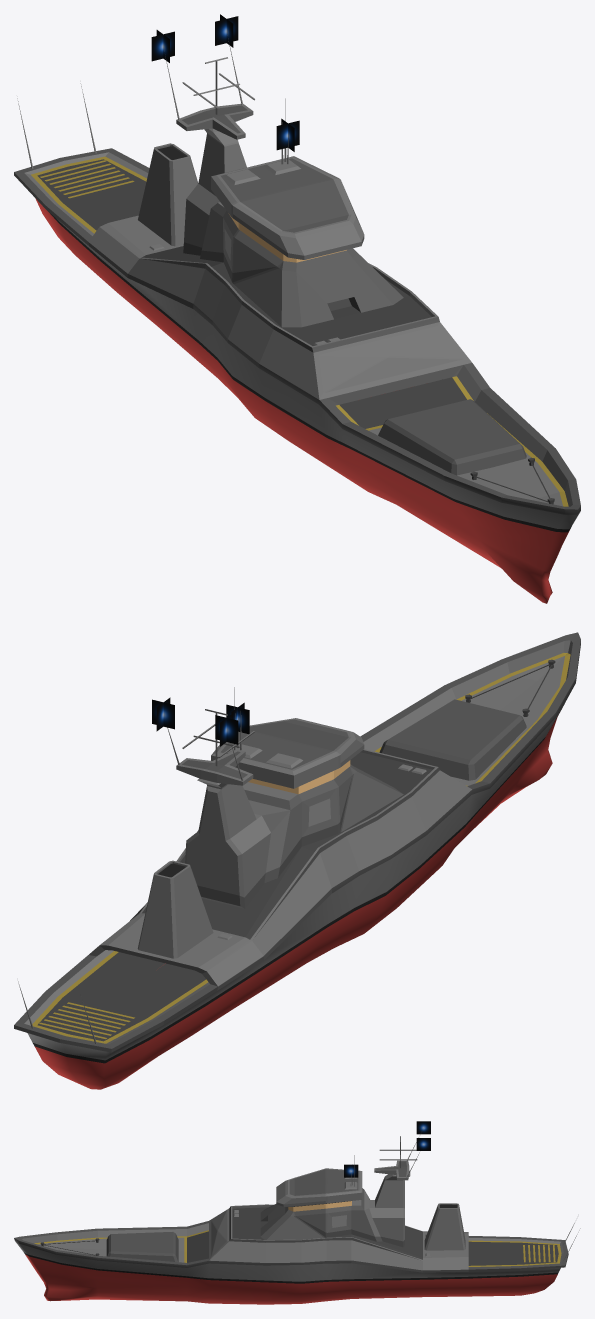
Rendered from model_polyfleet_battleship01.fbx.
3 views of the same model, one above another, from view 1: azimuth 30°, elevation 25°; view 2: azimuth 150°, elevation 25°; view 3: azimuth 270°, elevation 25° (orthographic). The views are drawn at different scales.
Parts seen in each view (by area): view 1: model_battleship01, emissivelight; view 2: model_battleship01, emissivelight; view 3: model_battleship01, emissivelight.
Part boxes in pixels (box(x1,y1,x2,y2)): model_battleship01: box(14, 38, 580, 603); emissivelight: box(151, 14, 346, 262); model_battleship01: box(14, 632, 580, 1089); emissivelight: box(152, 697, 350, 794); model_battleship01: box(14, 1136, 580, 1304); emissivelight: box(288, 1121, 430, 1211).
Size of the model in its own units: 684 by 1250 by 3755.
